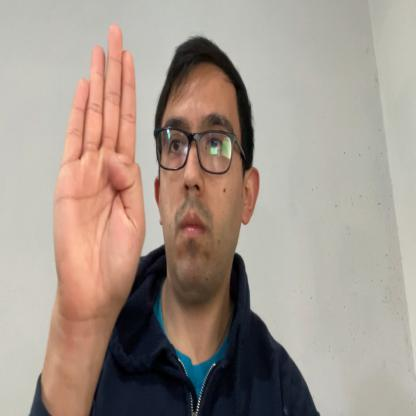B: (52, 22, 146, 328)
